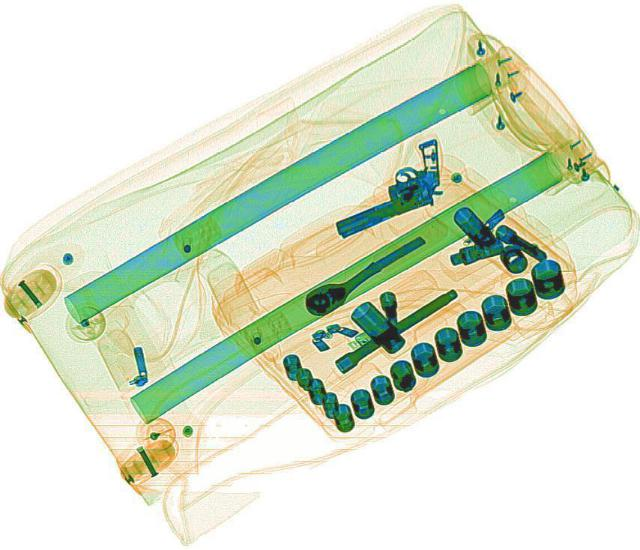Gun: (306, 135, 470, 242)
